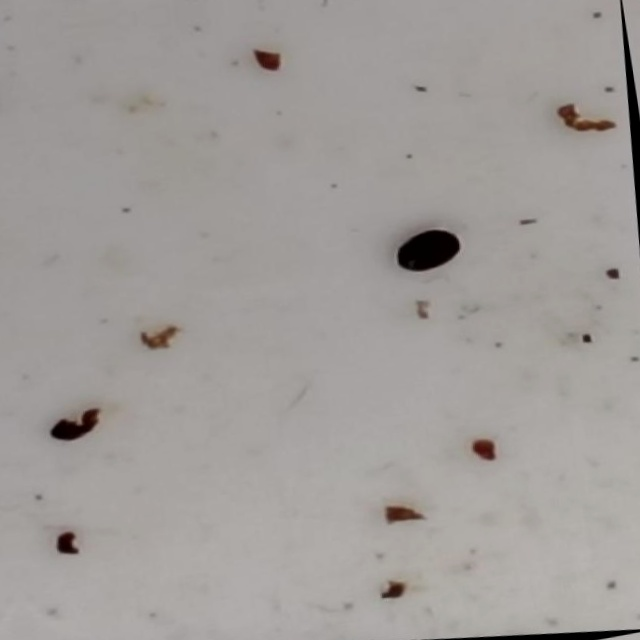varroa: (391, 223, 468, 283)
